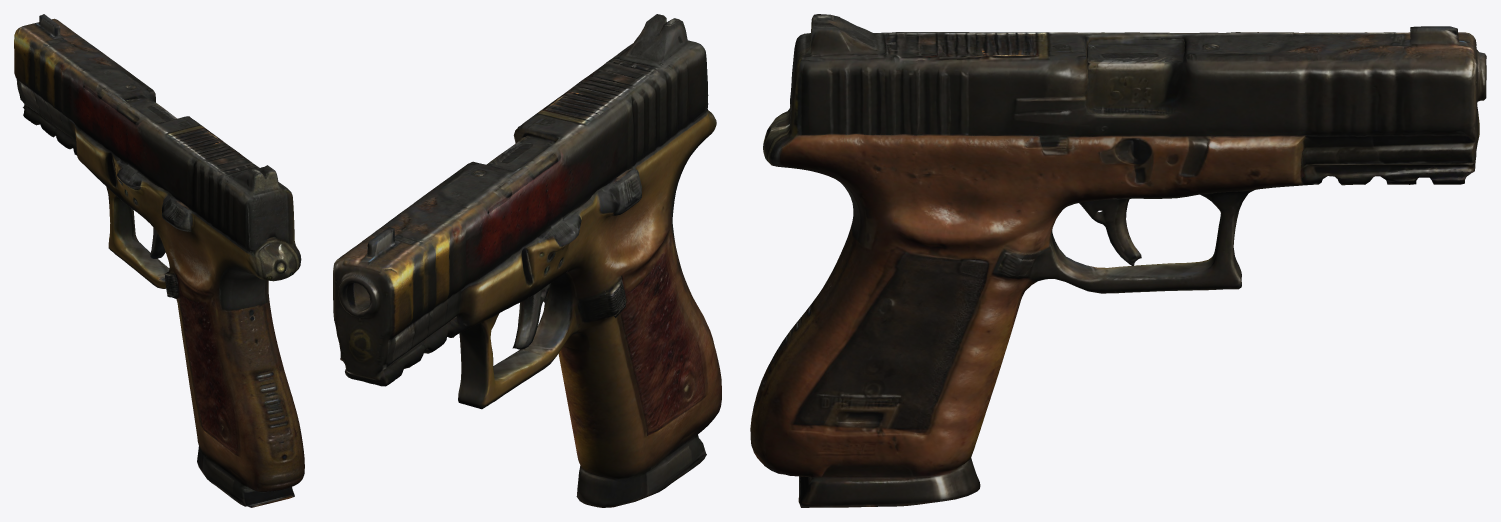
The model's file is gunA.glb.
The picture shows the model from 3 angles, left to right: view 1: azimuth 30°, elevation 25°; view 2: azimuth 150°, elevation 25°; view 3: azimuth 270°, elevation 25°; orthographic projection. The views are drawn at different scales.
Size of the model in its own units: 0.291 by 1.41 by 2.
Materials: 1 (1 with a texture image).
